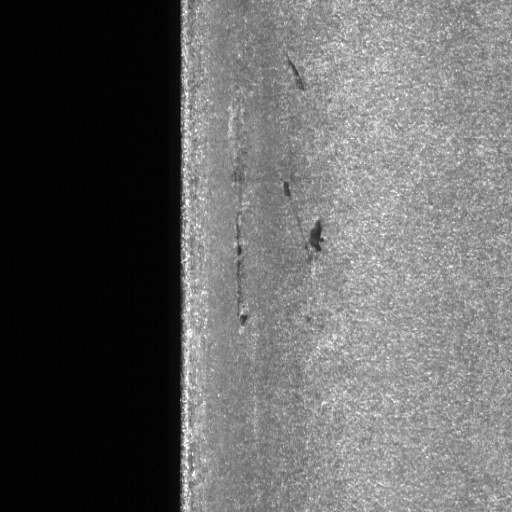zongxiangliewen: (282, 176, 326, 269), (231, 116, 248, 328), (282, 53, 307, 97)
